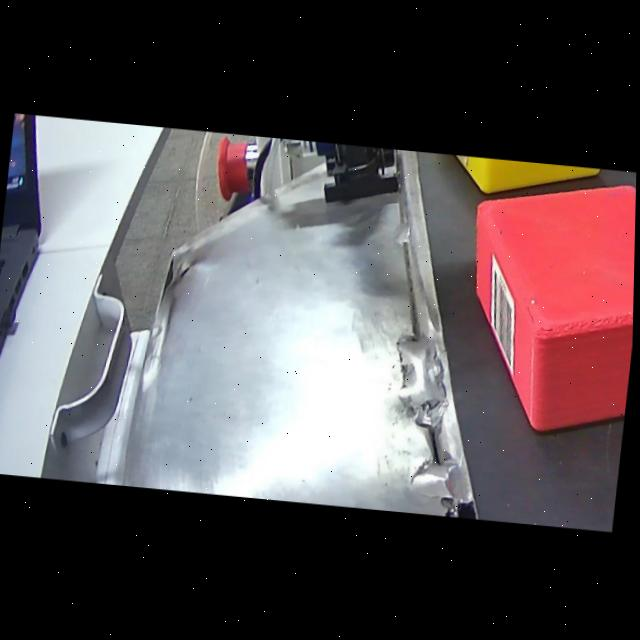redBox: (449, 165, 637, 448)
yellowBox: (413, 150, 610, 207)
